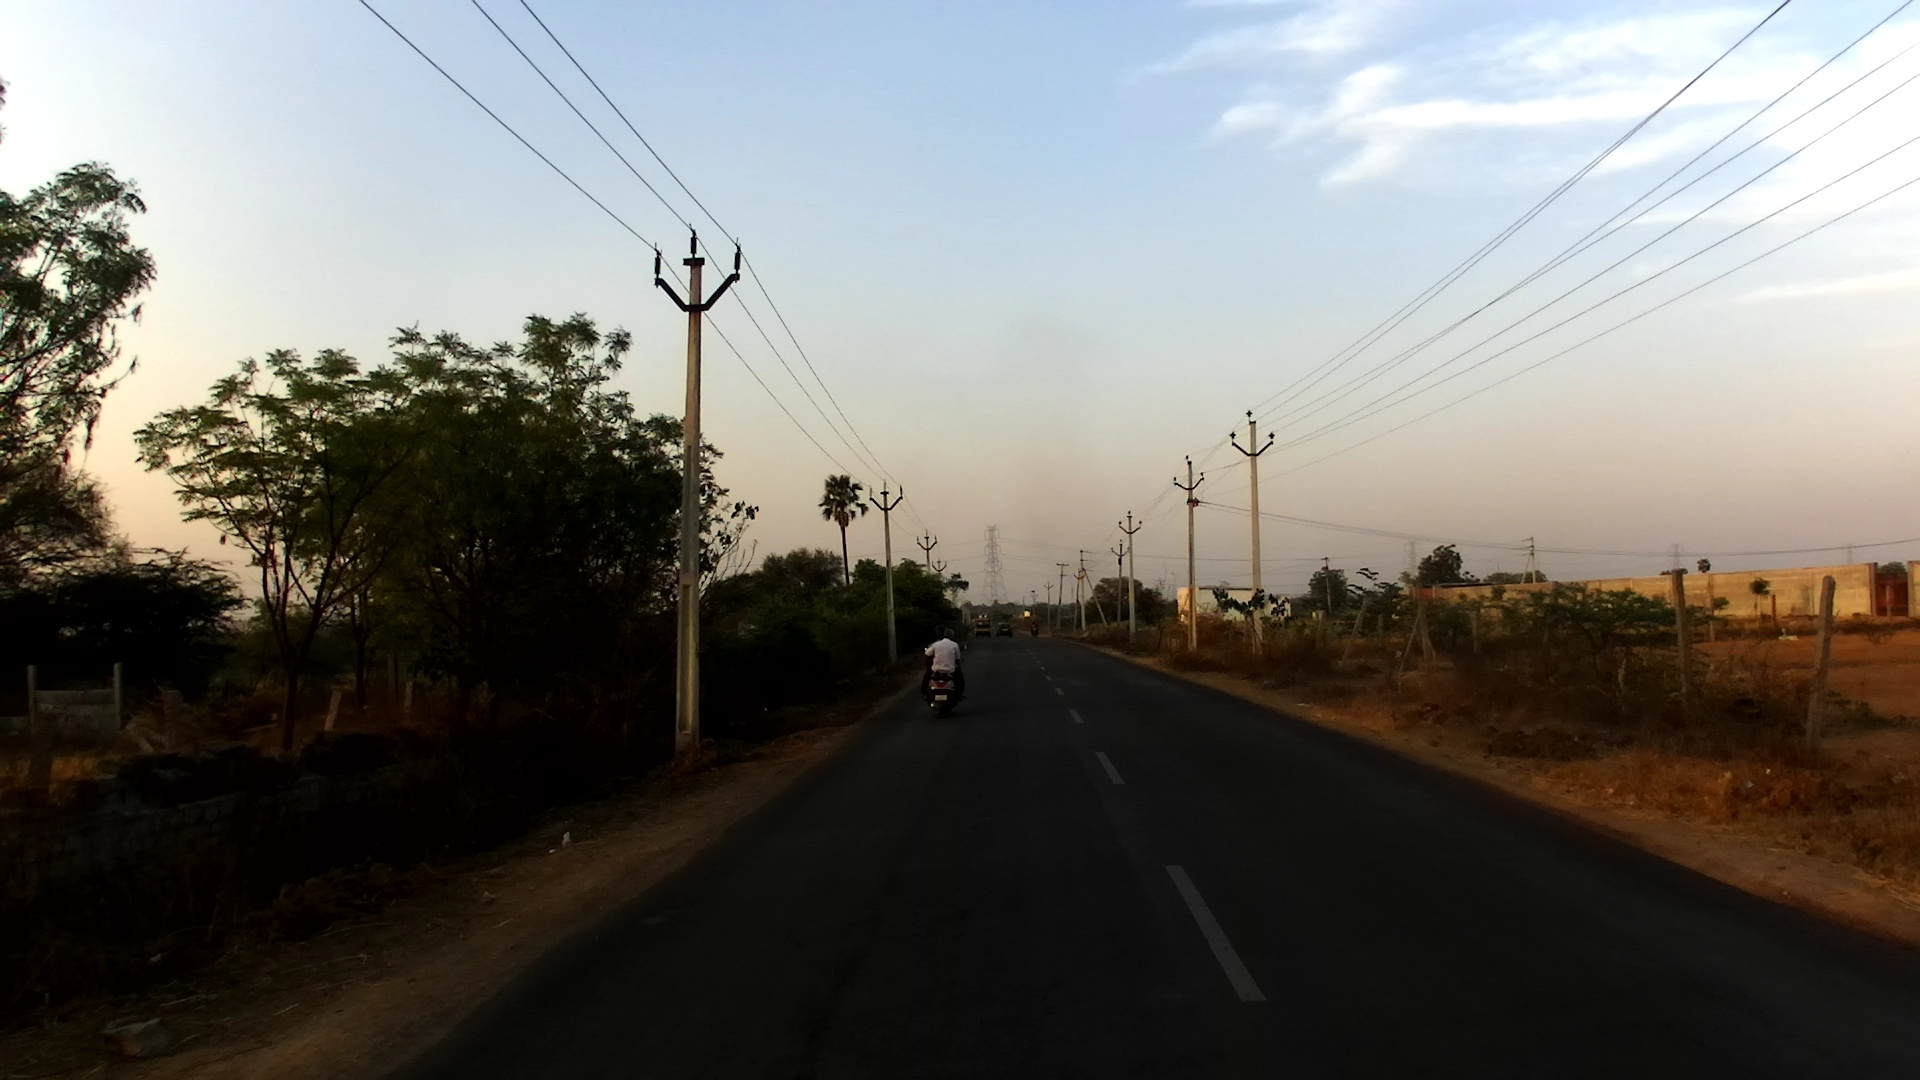car: (972, 613, 992, 638), (994, 623, 1013, 638)
motorcycle: (919, 641, 970, 717), (1027, 626, 1038, 638)
rider: (922, 628, 971, 703), (927, 627, 955, 671), (1028, 619, 1039, 633)
